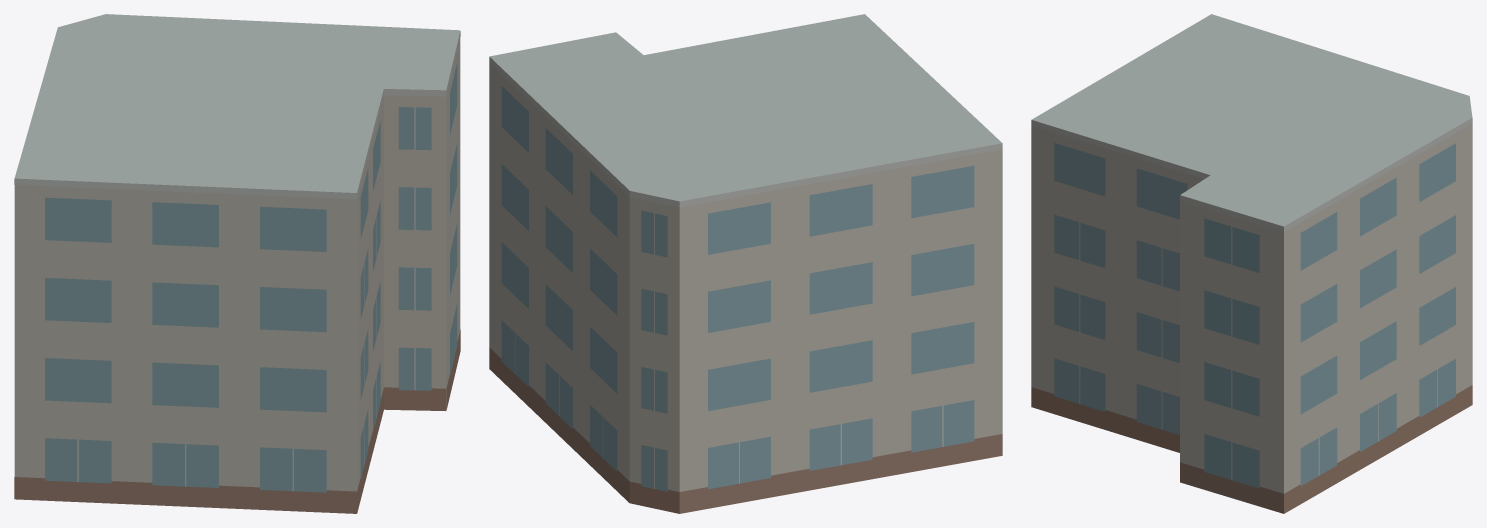
Rendered from survey-upis-33046294.glb.
3 renders of one model, left to right at view 1: azimuth 30°, elevation 25°; view 2: azimuth 150°, elevation 25°; view 3: azimuth 270°, elevation 25°, orthographic. The views are drawn at different scales.
Visible parts, largest first — view 1: survey-upis-33046294.tmp; view 2: survey-upis-33046294.tmp; view 3: survey-upis-33046294.tmp.
Part boxes in pixels (x1=…): survey-upis-33046294.tmp: x1=14, y1=14, x2=460, y2=513; survey-upis-33046294.tmp: x1=489, y1=14, x2=1002, y2=513; survey-upis-33046294.tmp: x1=1031, y1=14, x2=1472, y2=513.
Size of the model in its own units: 19.69 by 12.4 by 17.26.
